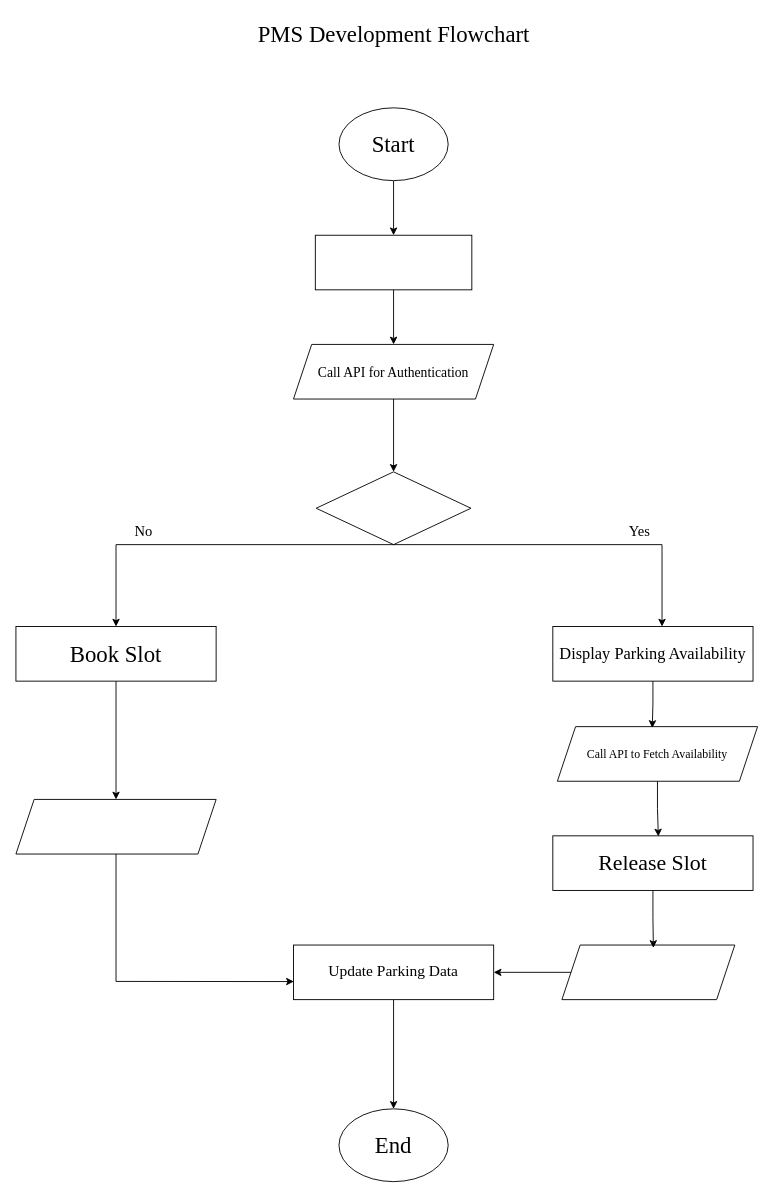
This 774x1198 diagram has some shape labels left out. The box of each missing label's shape, as (x1, y1, x2, y2) in pixels:
Authenticated?: (315, 471, 471, 545)
Call API to update slot: (15, 799, 216, 854)
Call API to Update Slot Status: (561, 944, 735, 1000)
User Authentication: (314, 234, 472, 290)
